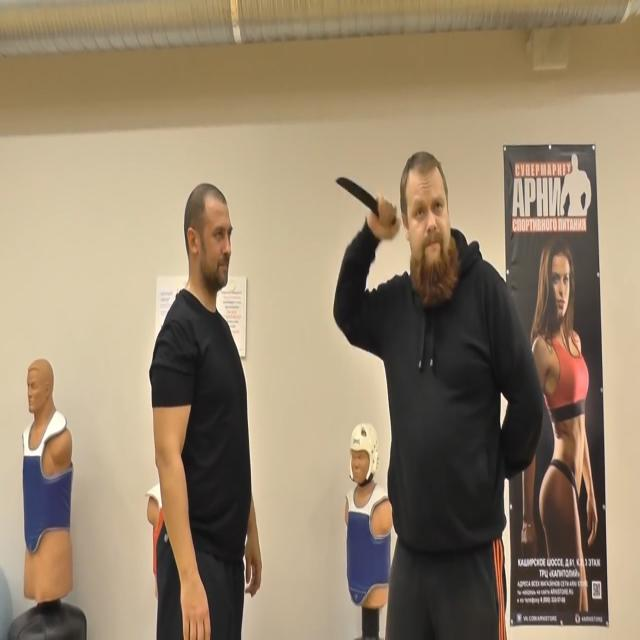knife: (335, 175, 381, 215)
